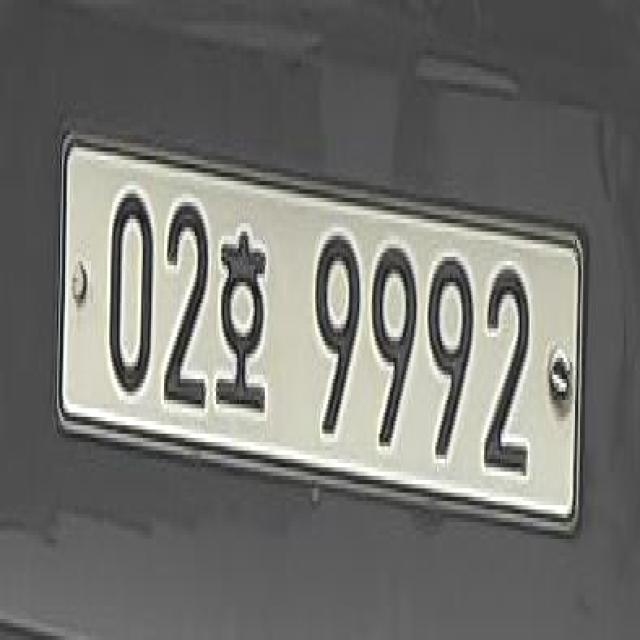illegal_plate: (59, 139, 587, 540)
